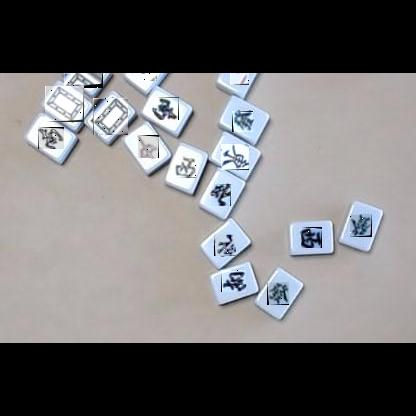1z: (221, 144, 249, 170)
2z: (154, 97, 179, 120), (38, 127, 64, 149), (221, 270, 246, 292)
3z: (175, 157, 196, 178), (301, 227, 322, 248)
4z: (214, 234, 236, 256), (210, 184, 231, 206)
5z: (45, 86, 84, 122), (93, 98, 128, 135), (64, 73, 103, 88)
6z: (350, 214, 372, 237), (267, 282, 289, 305), (232, 111, 253, 132)
7z: (138, 135, 159, 158), (230, 73, 249, 85), (138, 73, 157, 81)
